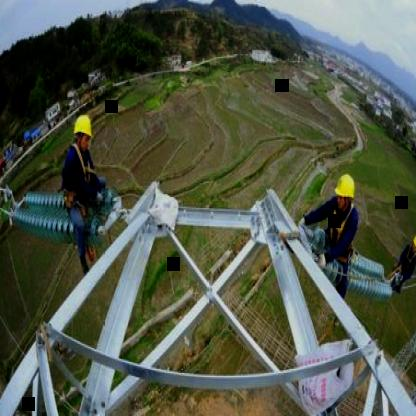helmet: (334, 172, 358, 215), (72, 113, 94, 156), (412, 234, 416, 255)
